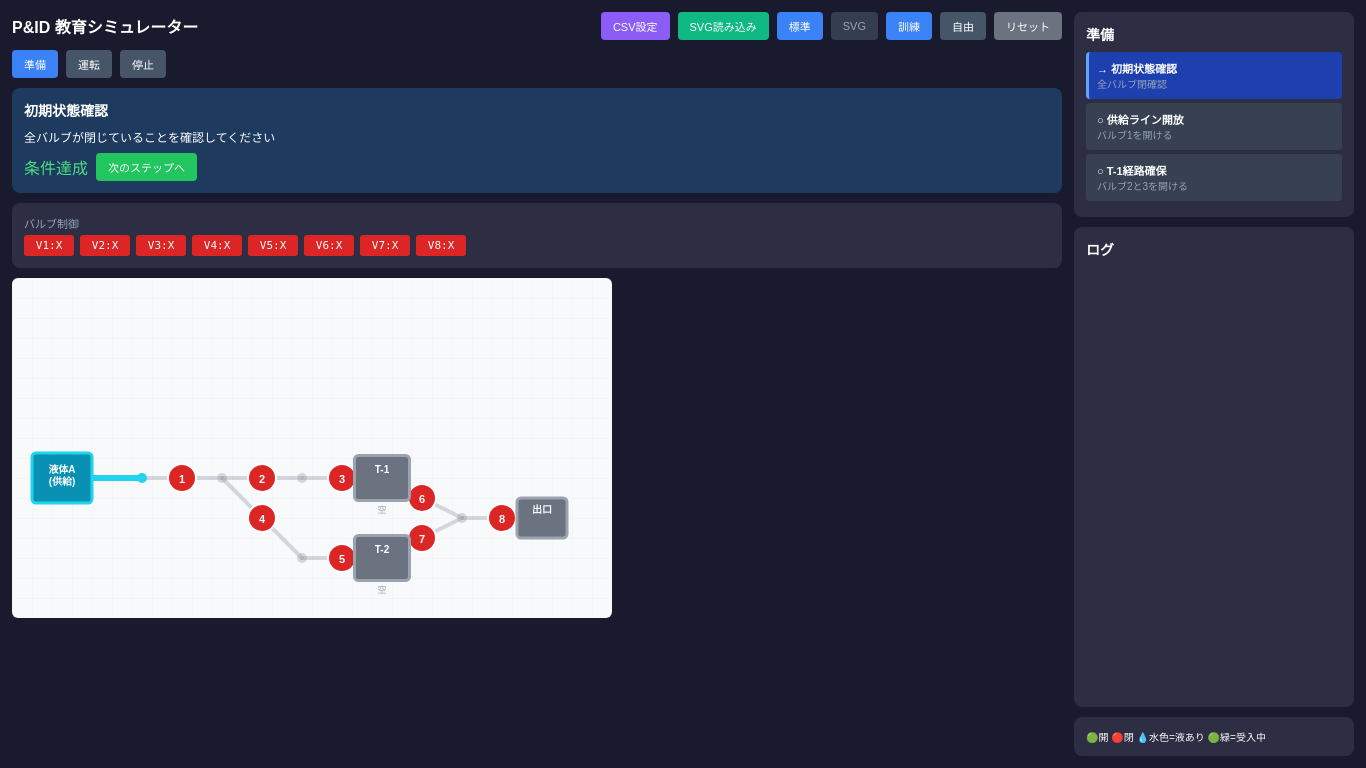
Scenario: PIDSimulator › バルブ操作 › バルブボタンクリックで開閉が切り替わる
Click the button "V1:X".
click(49, 246)  # box left=24, top=235, right=74, bottom=256
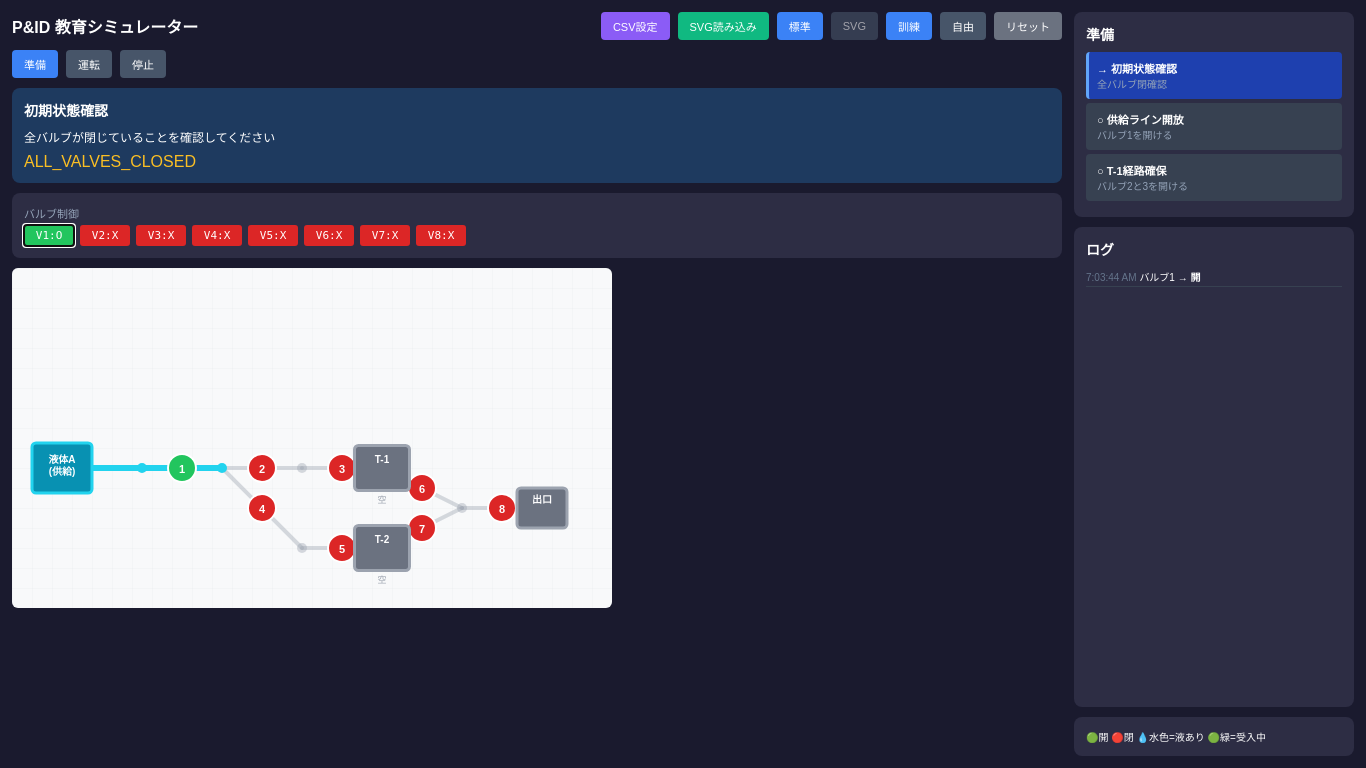
Expected: the button "V1:O" is shown, left=24, top=225, right=74, bottom=246
